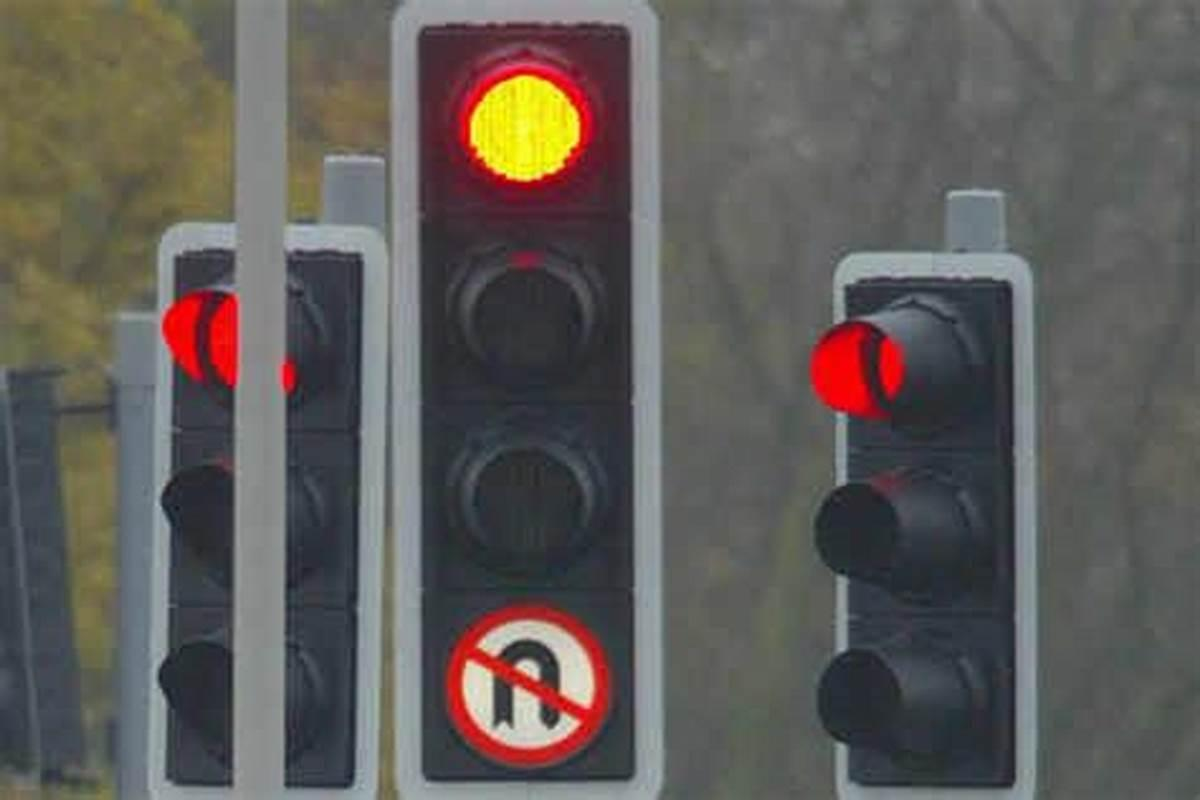red: (380, 0, 672, 612)
